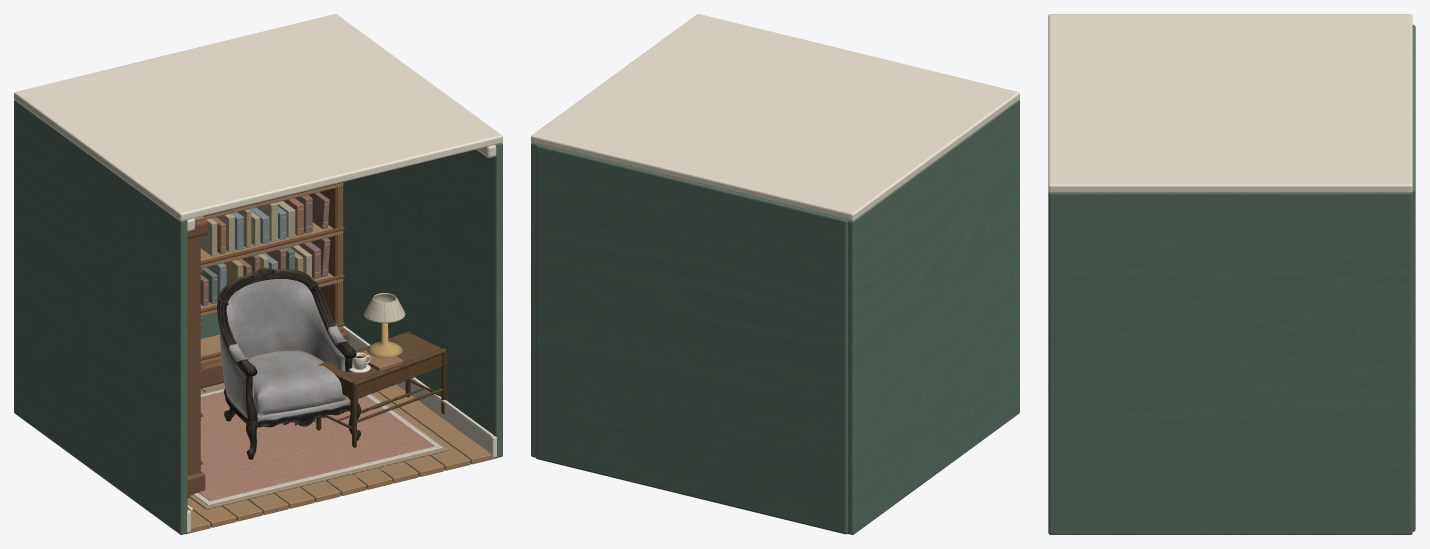
File: library.glb
The picture shows the model from 3 angles, left to right: view 1: azimuth 30°, elevation 25°; view 2: azimuth 150°, elevation 25°; view 3: azimuth 270°, elevation 25°; orthographic projection. The views are drawn at different scales.
Parts seen in each view (by area): view 1: library__Library green.002, library__Painted cream.002, library__Armchair_01, library__Terracotta textile.001, library__Oak joinery.002, library__Walnut.002, library__small_wooden_table_01, library__Book cloth 5, library__Book cloth 4, library__Muted brass.002, library__Ivory textile.002, library__Rug braid.002 (+5 smaller); view 2: library__Library green.002, library__Painted cream.002; view 3: library__Library green.002, library__Painted cream.002.
Part boxes in pixels (x1,y1,x2,y2): library__Library green.002: (14,100,502,534); library__Painted cream.002: (14,14,502,532); library__Armchair_01: (217,267,360,459); library__Terracotta textile.001: (198,391,434,500); library__Oak joinery.002: (186,183,496,533); library__Walnut.002: (187,181,348,497); library__small_wooden_table_01: (316,331,446,447); library__Book cloth 5: (200,192,330,306); library__Book cloth 4: (200,201,311,277); library__Muted brass.002: (204,183,402,357); library__Ivory textile.002: (193,297,442,505); library__Rug braid.002: (189,387,448,509); library__Library green.002: (531,100,1019,534); library__Painted cream.002: (531,14,1019,221); library__Library green.002: (1048,24,1415,534); library__Painted cream.002: (1048,14,1412,192).
Bounding box in the file's own units: 2.9 × 2.76 × 2.62.
21 materials, 16 textured.
